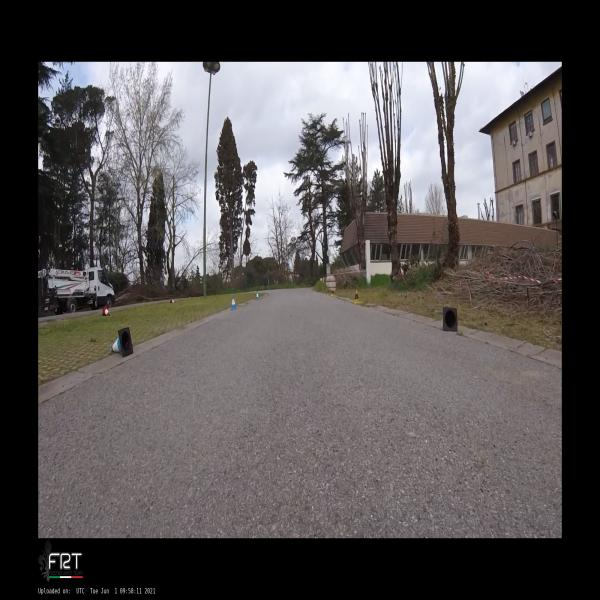blue_cone: (110, 327, 134, 358), (230, 295, 238, 310), (255, 290, 260, 300)
orange_cone: (102, 305, 110, 316), (170, 298, 175, 304)
unknown_cone: (442, 307, 458, 332)
yellow_cone: (353, 289, 360, 304), (331, 288, 334, 297)
